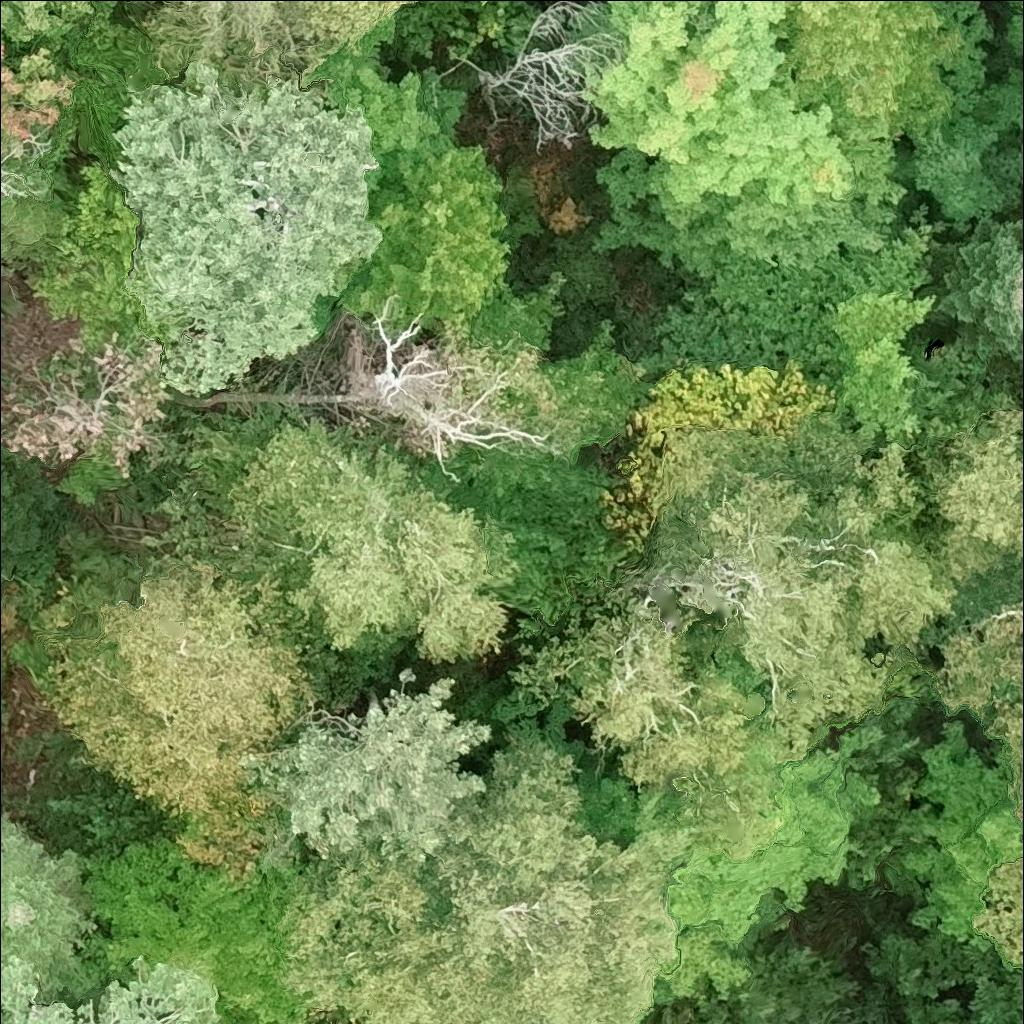crown: (39, 469, 350, 881), (282, 721, 695, 1023), (655, 410, 961, 756), (105, 58, 384, 397), (183, 408, 522, 661), (578, 0, 883, 276), (507, 601, 784, 862), (302, 15, 513, 325), (644, 197, 938, 394), (241, 666, 493, 869), (670, 719, 883, 946), (774, 0, 994, 203), (621, 361, 834, 542), (935, 566, 1023, 974), (899, 718, 1022, 947), (473, 0, 626, 155), (21, 155, 145, 340), (916, 393, 1023, 594), (918, 208, 1023, 398), (824, 289, 940, 453), (0, 810, 101, 995), (896, 87, 1023, 229), (0, 957, 235, 1023), (388, 0, 537, 60), (305, 0, 424, 72), (0, 38, 74, 148), (154, 0, 296, 54), (0, 442, 63, 559), (0, 0, 104, 54), (971, 66, 1023, 134), (1004, 0, 1023, 59)
